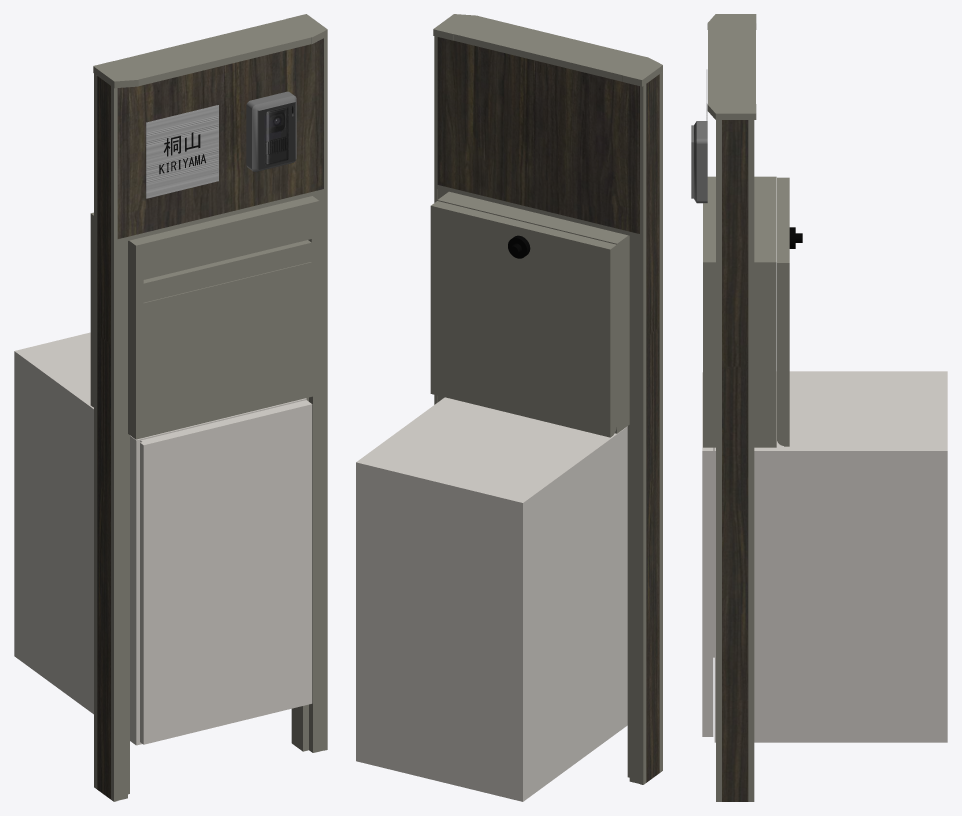
File: eabkinoumonchu-yoko-debox_blackebony.fbx
3 views of the same model, side by side, from view 1: azimuth 30°, elevation 25°; view 2: azimuth 150°, elevation 25°; view 3: azimuth 270°, elevation 25° (orthographic). The views are drawn at different scales.
Parts seen in each view (by area): view 1: eabkinoumonchu-yoko-debox_travertine.001; view 2: eabkinoumonchu-yoko-debox_travertine.001; view 3: eabkinoumonchu-yoko-debox_travertine.001.
Boxes of the visible parts, x1,y1,x2,y2 form: eabkinoumonchu-yoko-debox_travertine.001: (14,14,327,801); eabkinoumonchu-yoko-debox_travertine.001: (356,14,662,801); eabkinoumonchu-yoko-debox_travertine.001: (691,14,947,801).
Size of the model in its own units: 43.2 by 139 by 47.06.
Materials: 9 (5 with a texture image).
